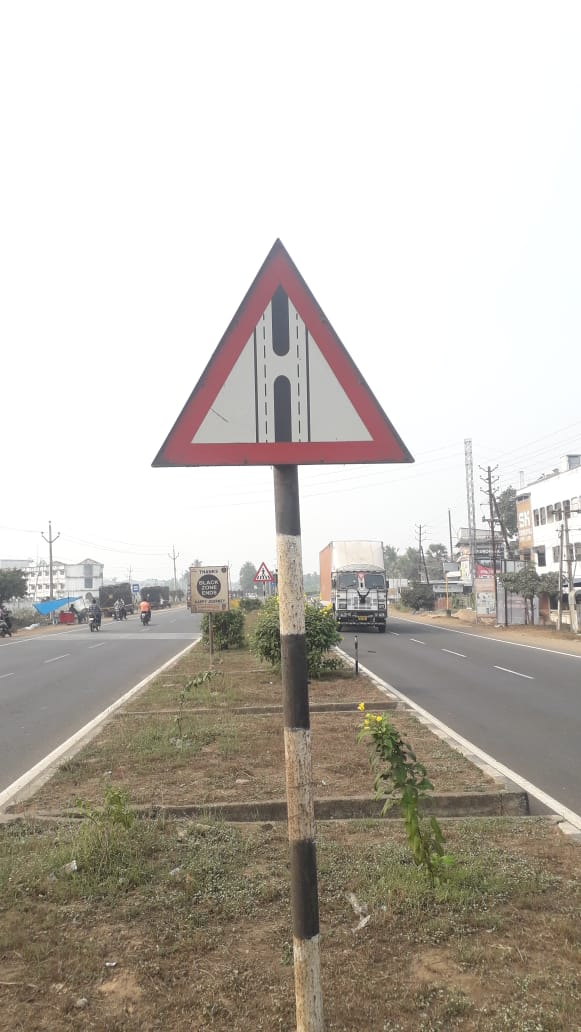highway go straight: (147, 221, 494, 532)
